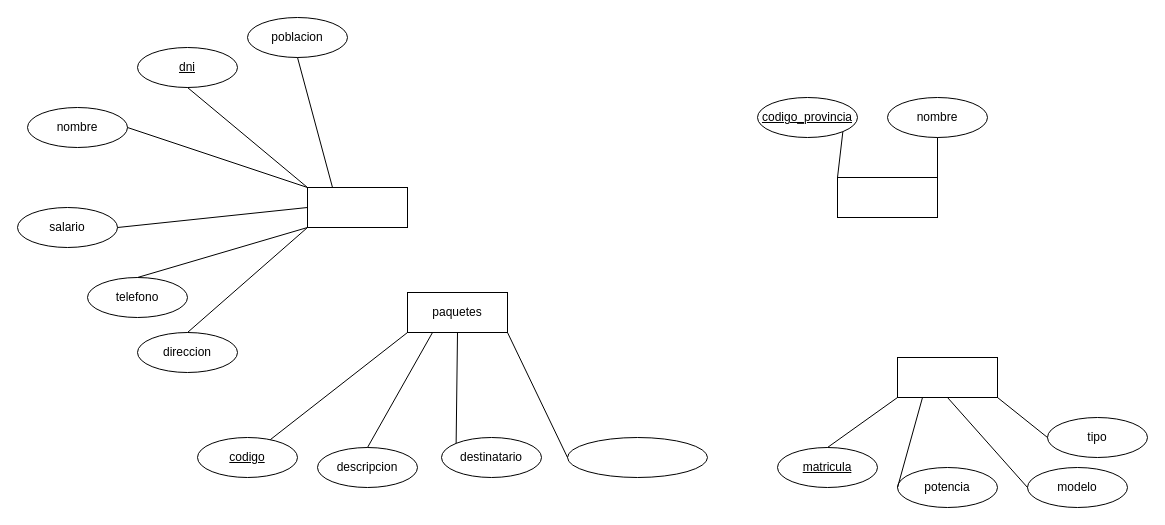
Some shapes in this 1165 by 525 pixel diagram are drawn without their labels. Here are the shapes that lost their labels. From the top down, the centre of each, then its label:
At (357,207): "camioneros".
At (887,197): "provincias".
At (947,377): "camiones".
At (637,457): "direccion_destinatario".
